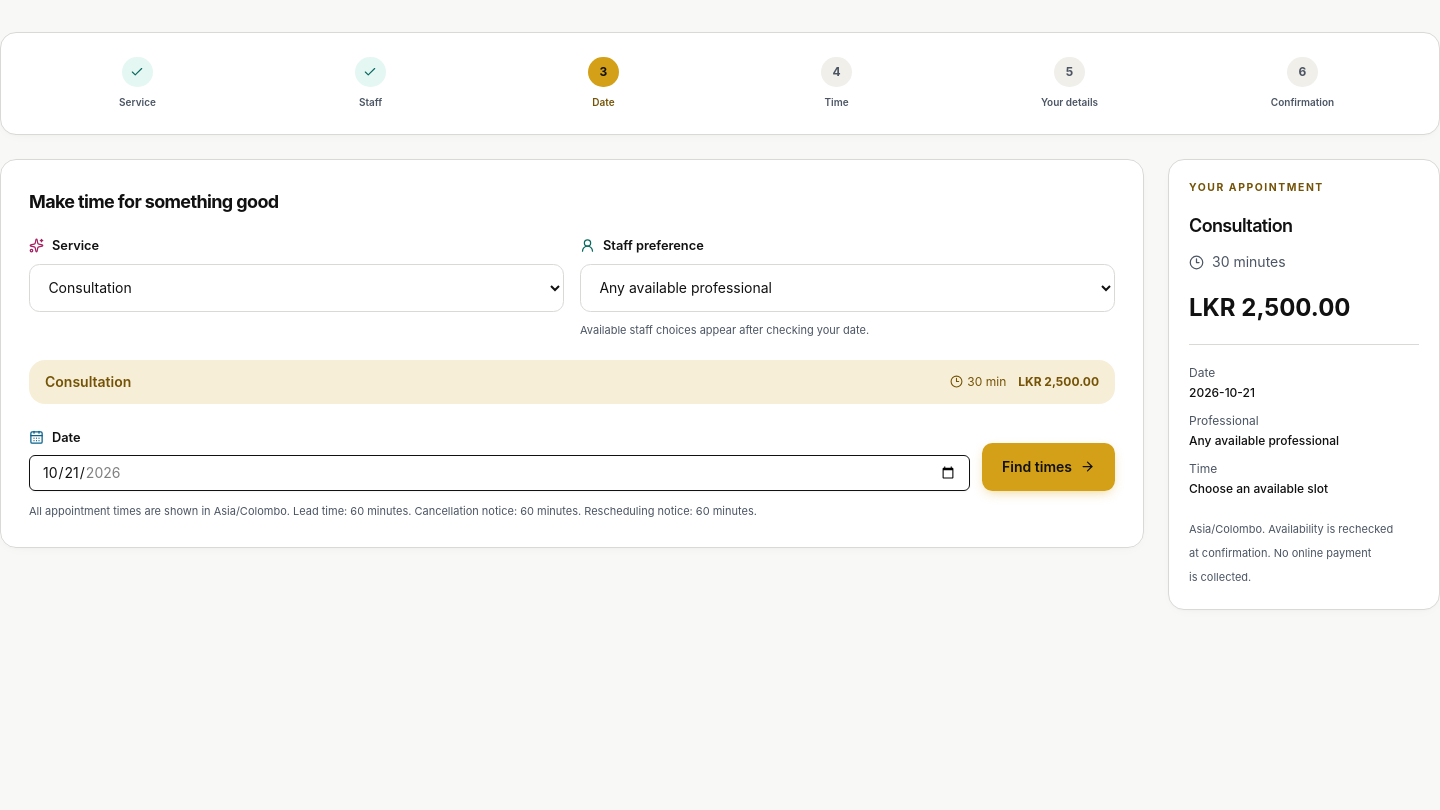
Test: redesigned product flows without a database › handles booking rejection: That time is no longer available. Choose another slot.
Click the button "Find times". click: (1049, 467)
box: [982,443,1115,491]
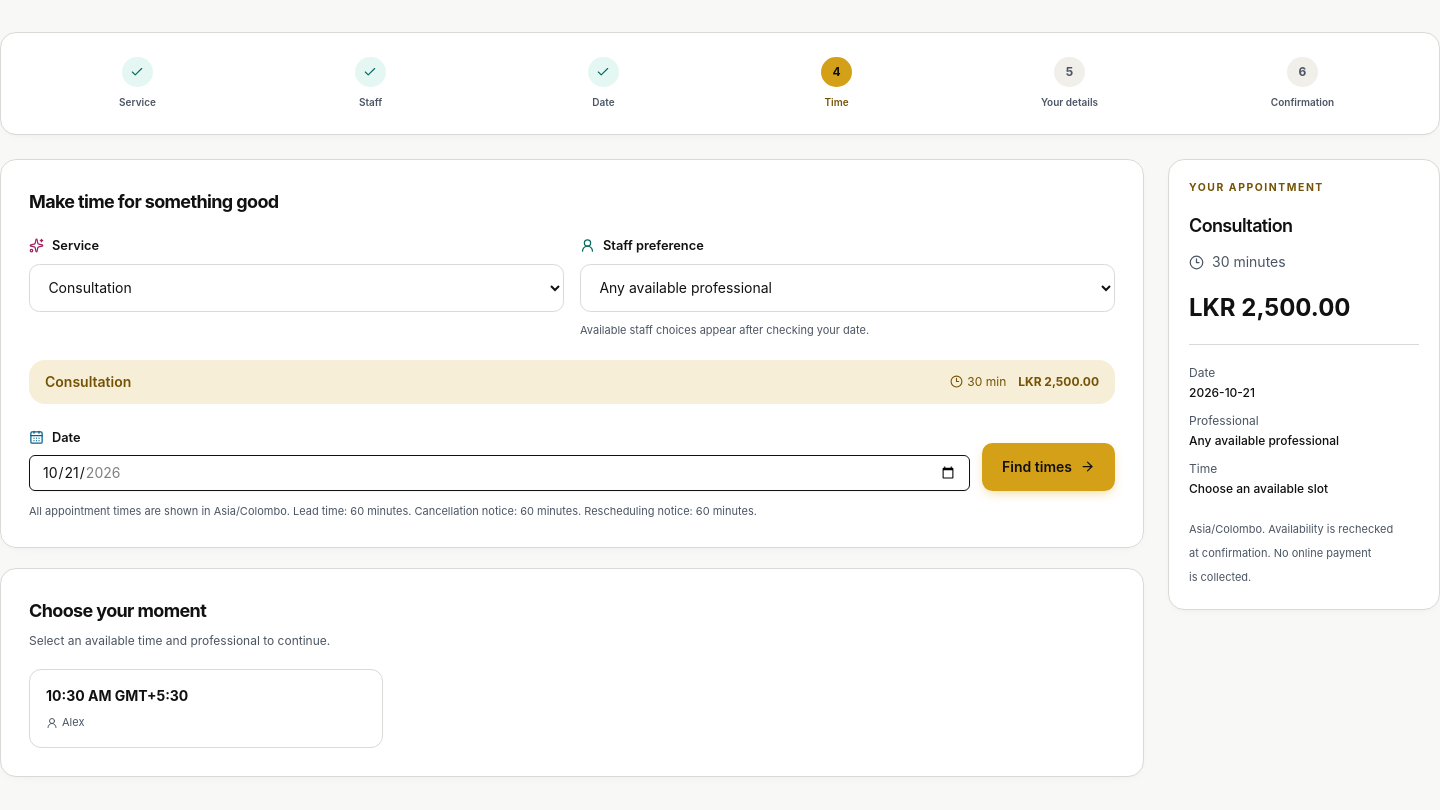
Click the button "Alex". click: (117, 696)
box: [29,669,383,748]
(page scrolled)
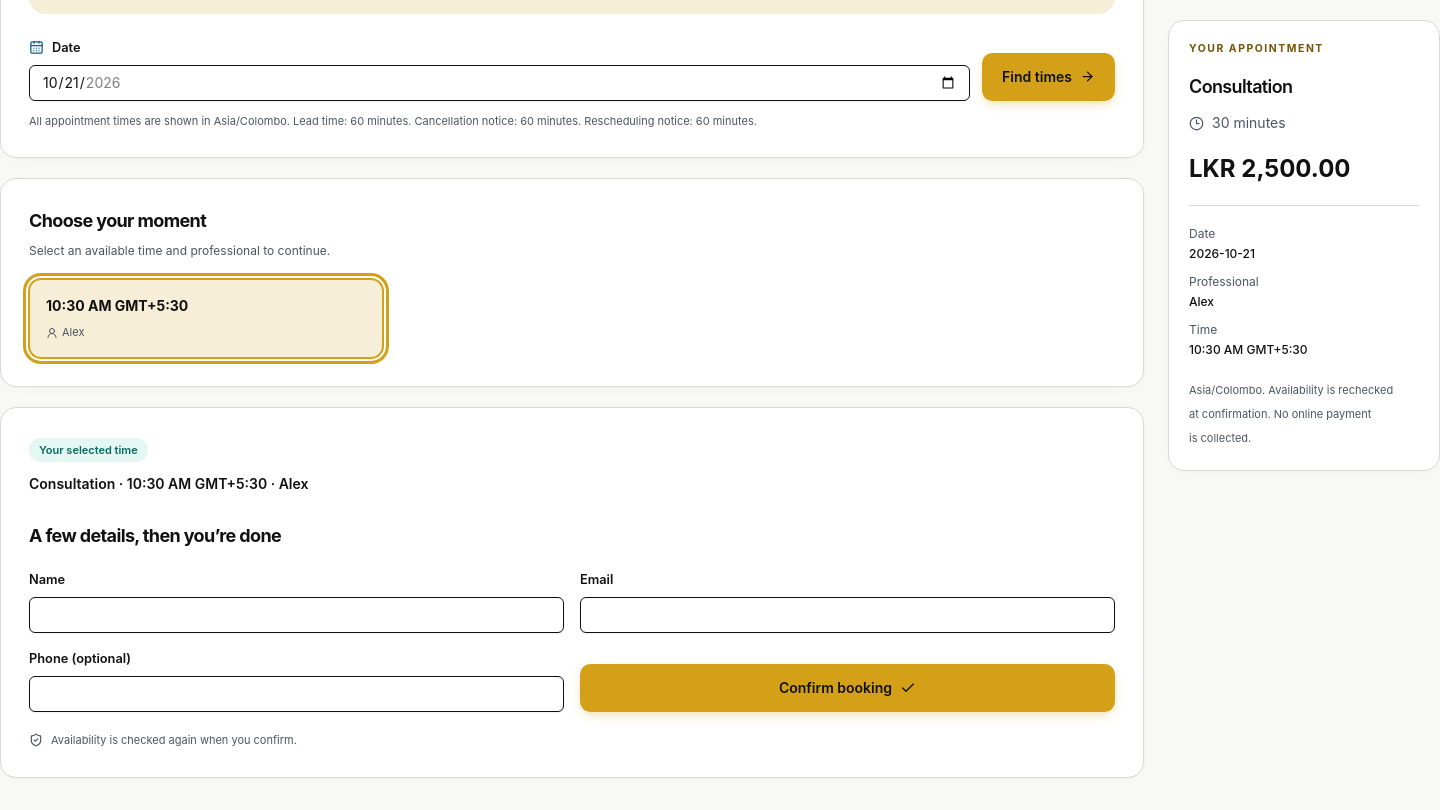
Type "Test Person" into the field labelled "Name". click: (296, 615)
box: [29,597,564,633]
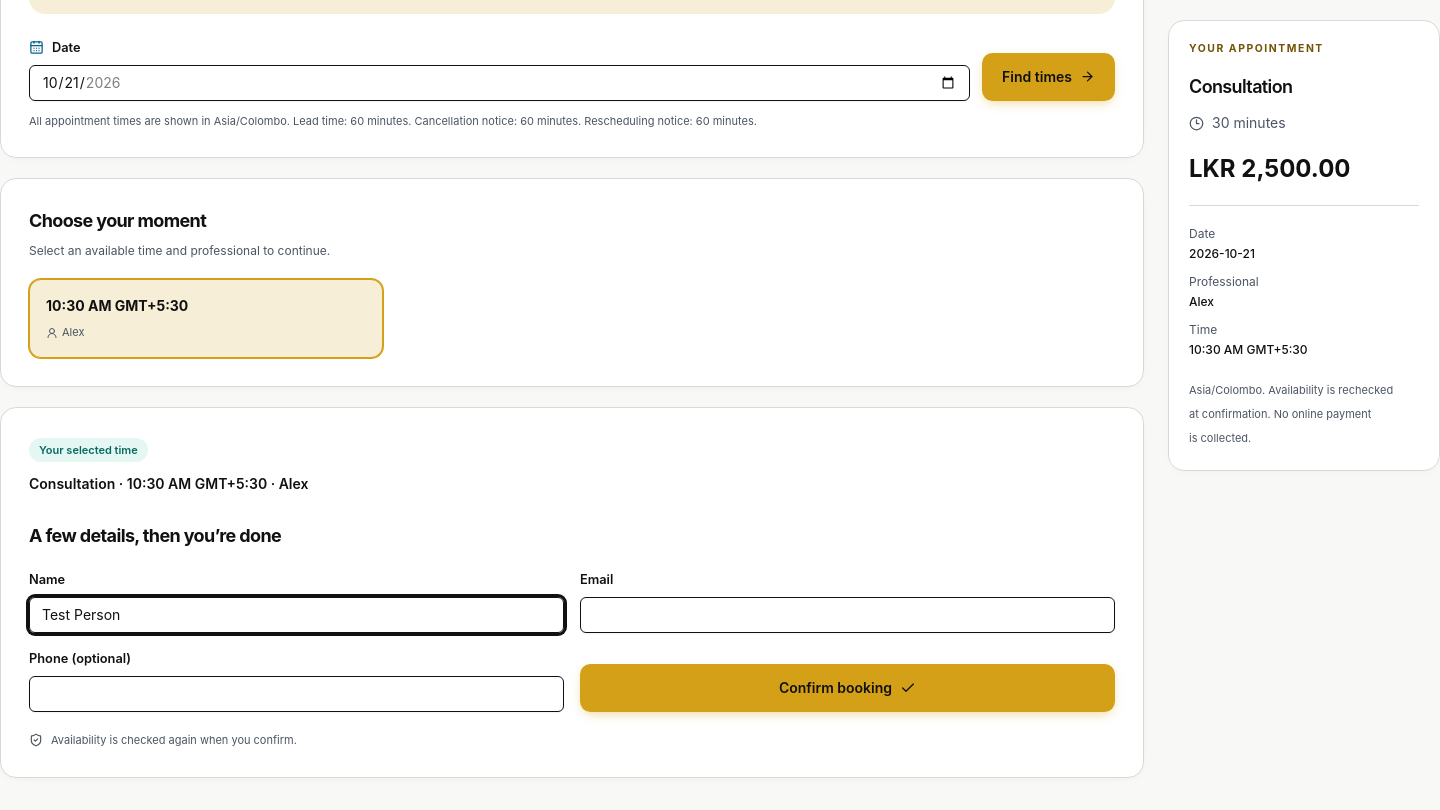
Type "test@example.test" into the field labelled "Email". click: (848, 615)
box: [580,597,1115,633]
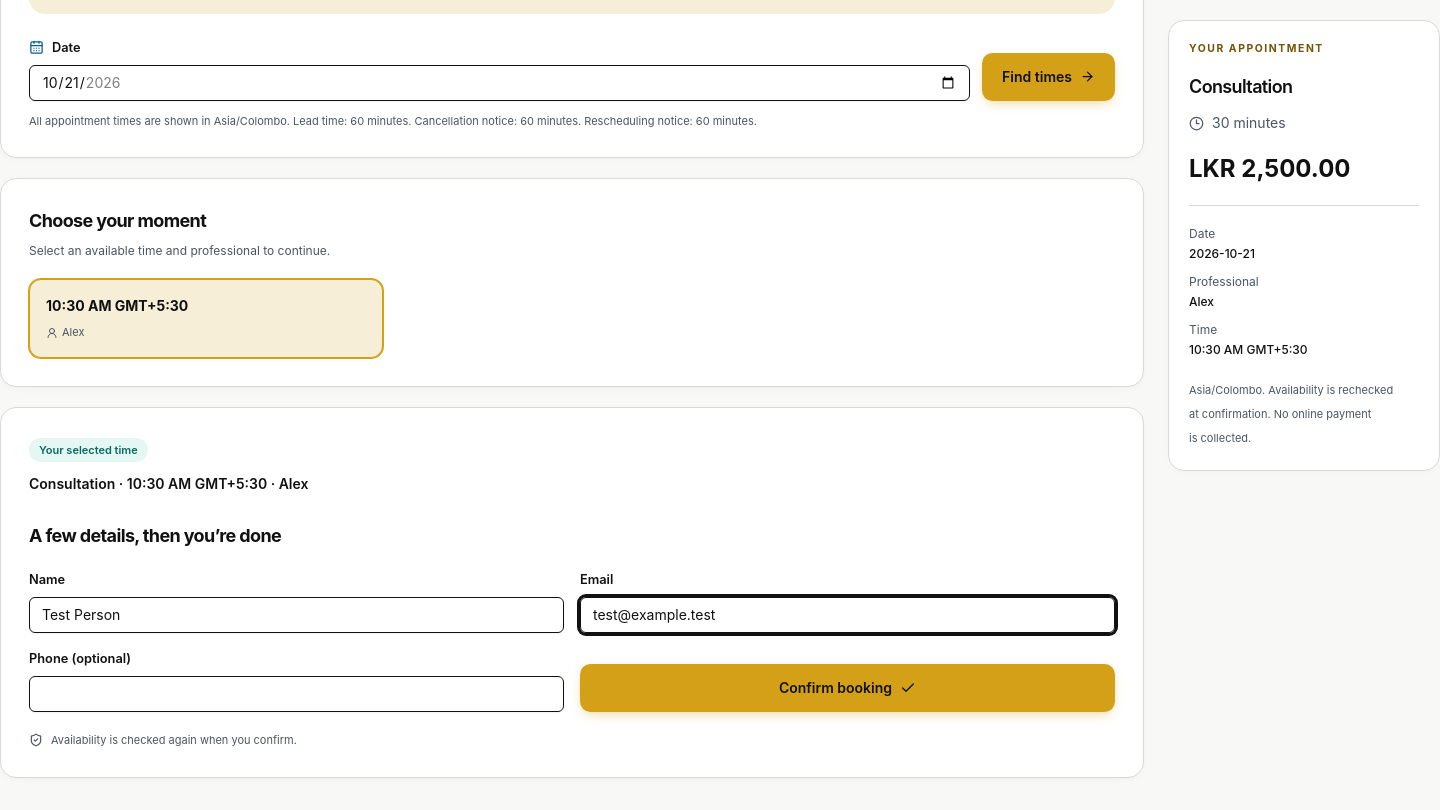
Click the button "Confirm booking". click: (848, 688)
box: [580,664,1115,712]
(page scrolled)
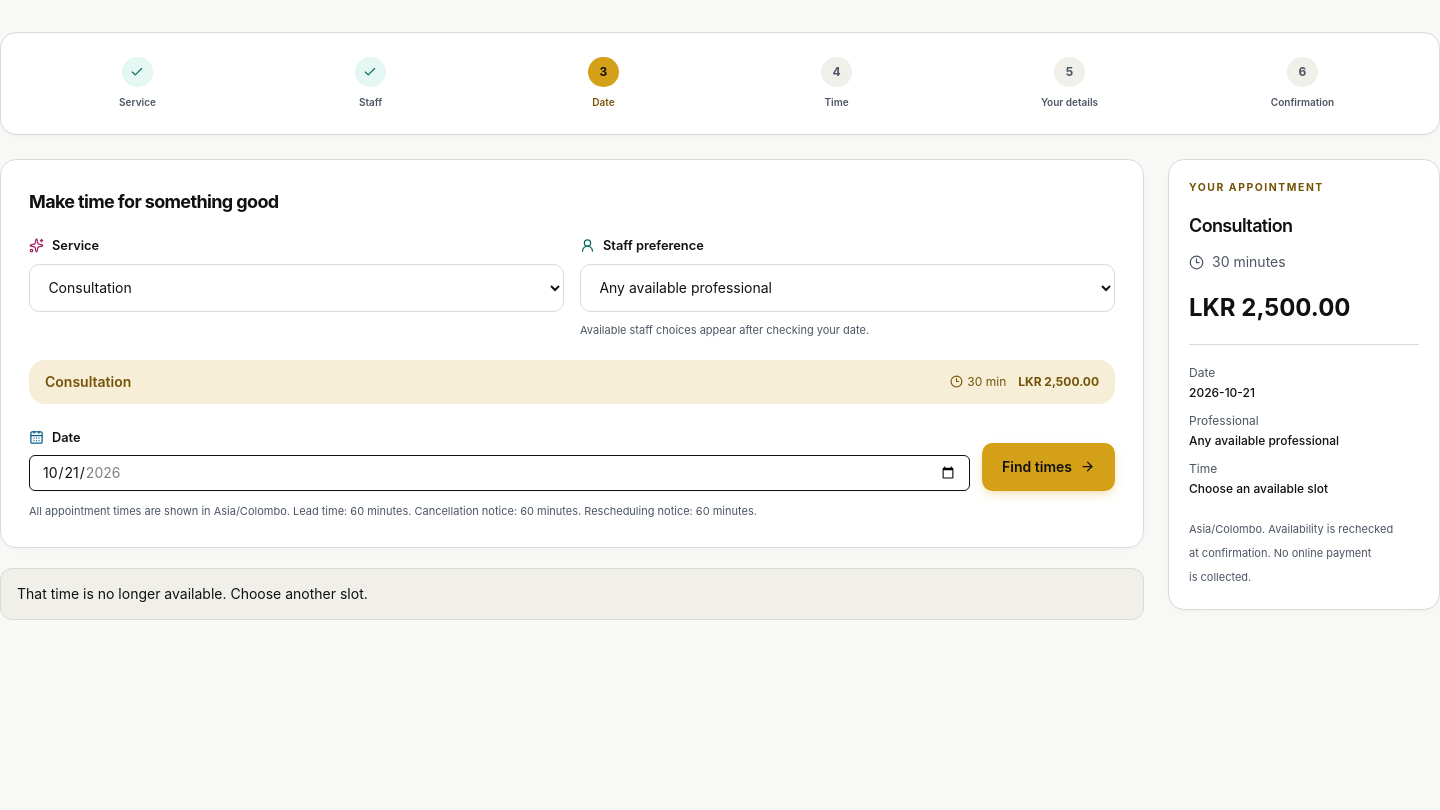
Expected: the button "Find times" is enabled, [982,443,1115,491]
Result: the message reads "That time is no longer available. Choose another slot." at [17,585,368,602]
Result: the button "Confirm booking" is gone
